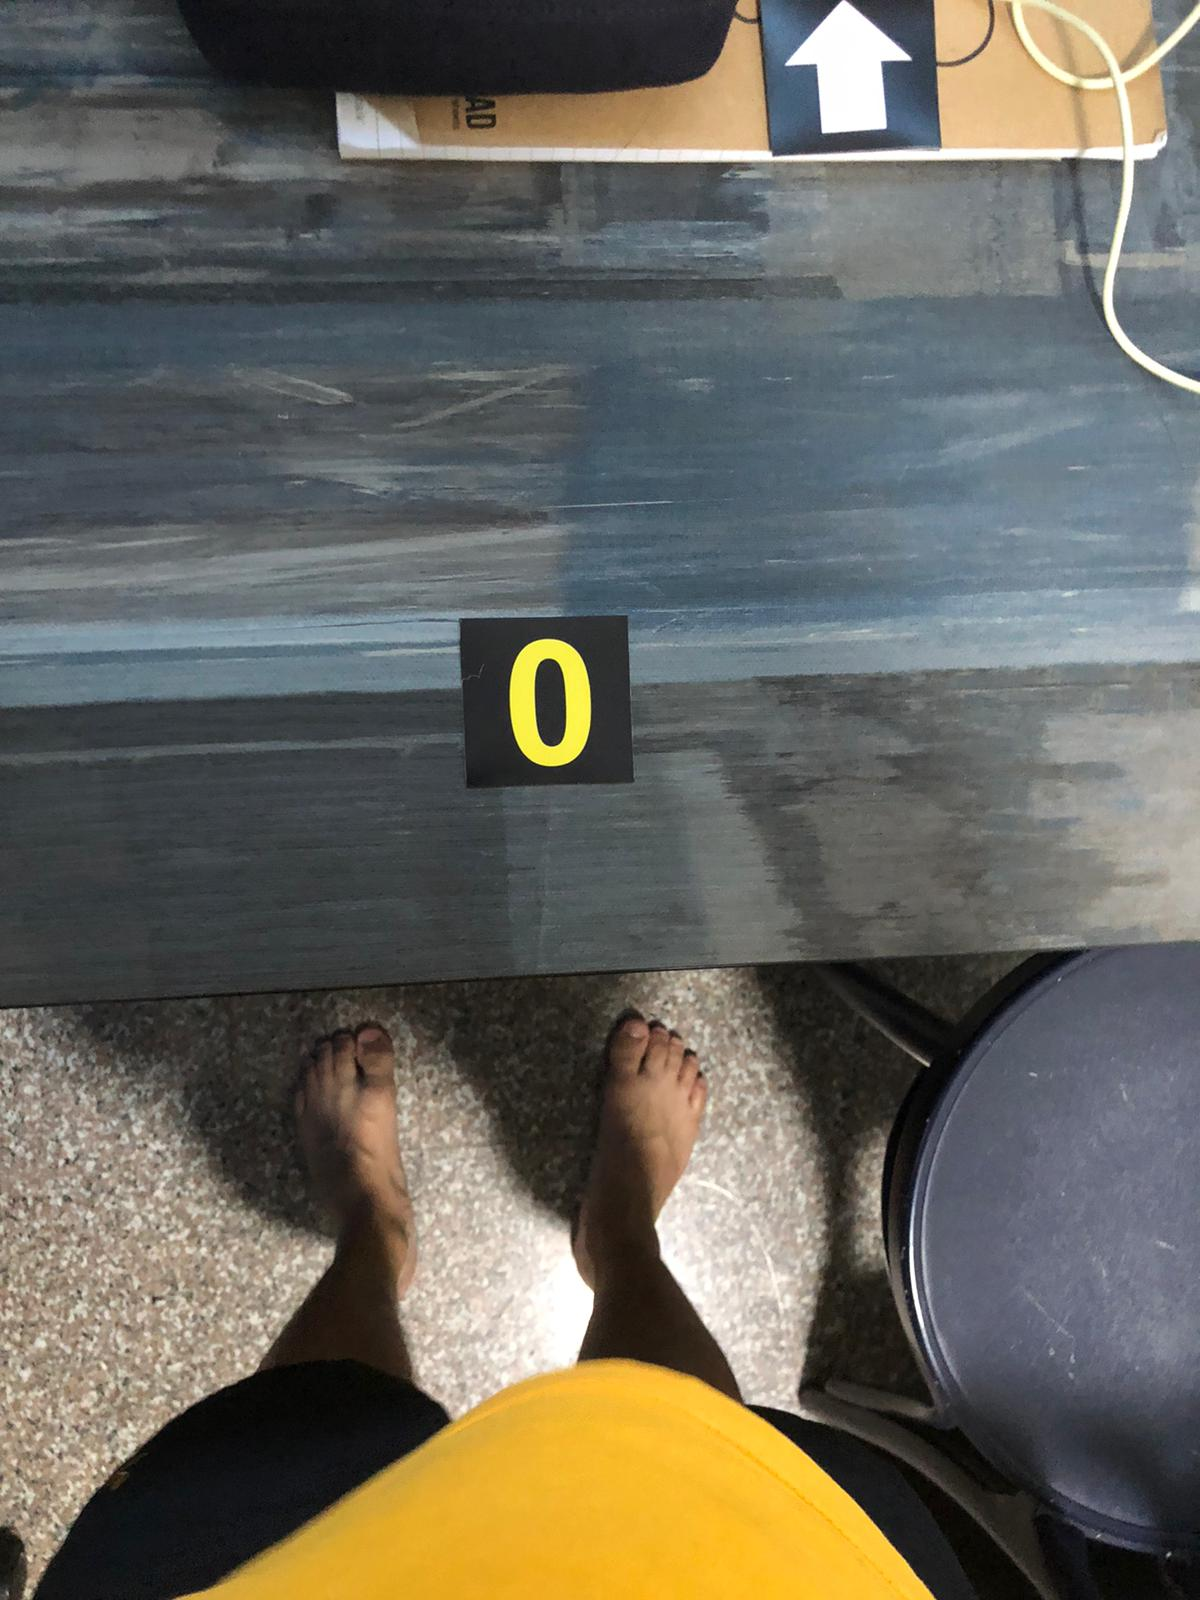Number 0: (466, 629, 632, 781)
